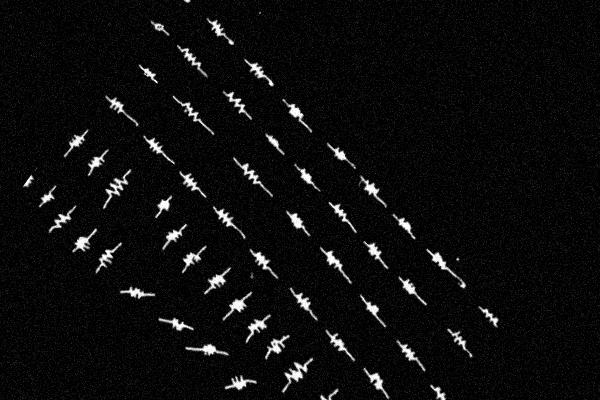resistor: (276, 350, 316, 397), (315, 241, 352, 281), (98, 166, 133, 208), (198, 262, 233, 303), (233, 156, 269, 194), (240, 53, 275, 90), (219, 84, 253, 121), (354, 170, 387, 207), (175, 41, 209, 76), (176, 94, 209, 130), (393, 337, 426, 372), (394, 272, 426, 307), (240, 311, 271, 347), (279, 95, 311, 129), (210, 201, 242, 235), (287, 284, 318, 319), (221, 289, 251, 325), (290, 161, 321, 195), (325, 196, 356, 230), (160, 306, 191, 340), (222, 365, 252, 400), (282, 207, 313, 240), (355, 291, 386, 324), (247, 245, 278, 278), (176, 243, 206, 277), (47, 203, 76, 238), (69, 225, 98, 260), (91, 241, 120, 276), (203, 13, 233, 46), (323, 326, 353, 359), (177, 167, 207, 200), (261, 331, 290, 364), (61, 126, 89, 160), (425, 246, 454, 278), (361, 364, 390, 396), (82, 147, 110, 179), (160, 221, 188, 253), (196, 335, 224, 367), (360, 235, 388, 266), (141, 131, 169, 162), (103, 91, 131, 121), (325, 139, 352, 168), (476, 301, 503, 330), (446, 326, 473, 355), (123, 278, 149, 308), (34, 183, 59, 213), (392, 212, 418, 240), (261, 129, 287, 157), (136, 61, 161, 88), (151, 192, 175, 220), (302, 383, 340, 400), (18, 171, 39, 197), (149, 16, 171, 40), (426, 379, 450, 400), (251, 393, 279, 400), (165, 0, 184, 0)
